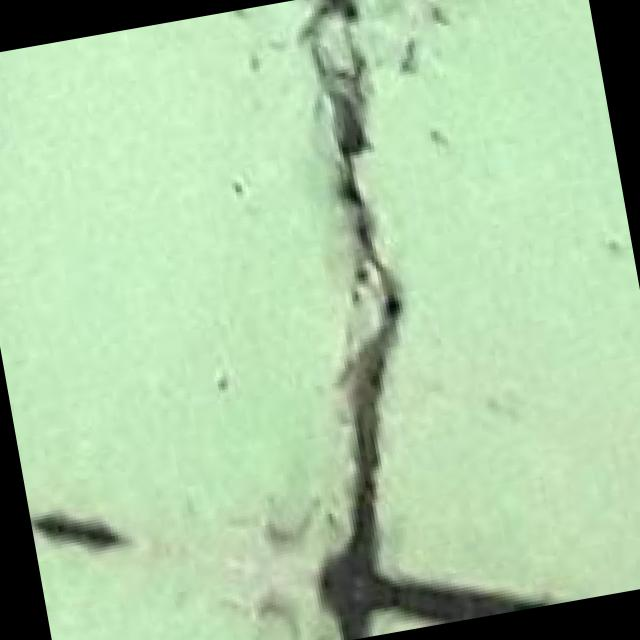crack: (186, 0, 577, 640)
